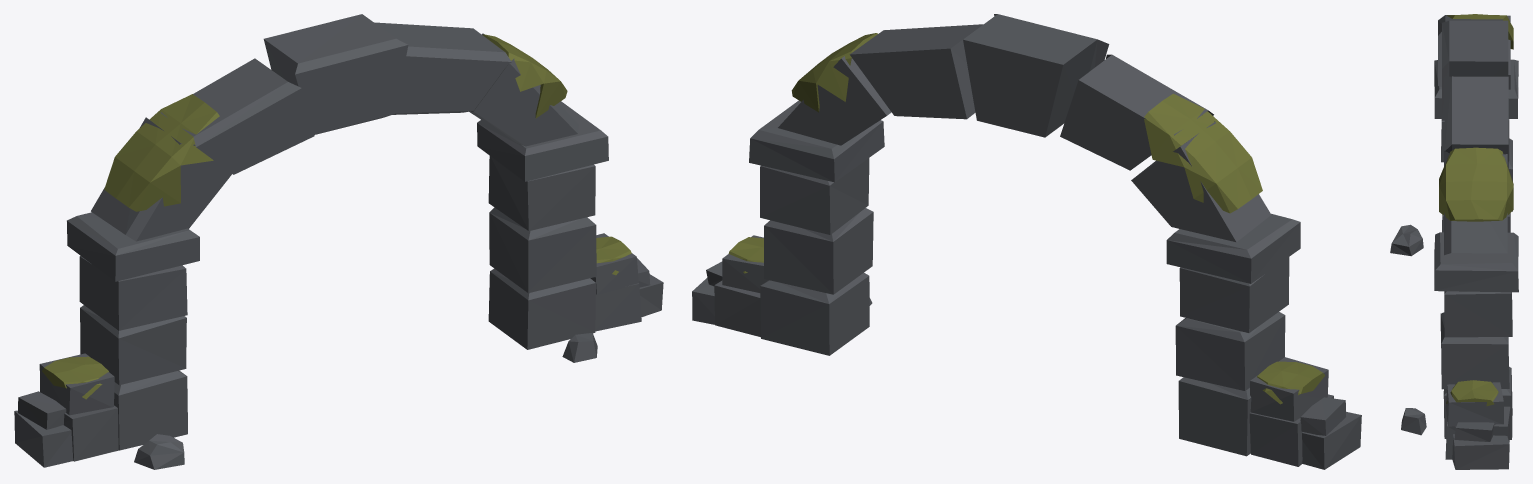
The model's file is FK_RuinDoorway.fbx.
The picture shows the model from 3 angles, left to right: view 1: azimuth 30°, elevation 25°; view 2: azimuth 150°, elevation 25°; view 3: azimuth 270°, elevation 25°; orthographic projection. The views are drawn at different scales.
Parts seen in each view (by area): view 1: FK_RuinDoorway_Stone, FK_RuinDoorway_Moss; view 2: FK_RuinDoorway_Stone, FK_RuinDoorway_Moss; view 3: FK_RuinDoorway_Stone, FK_RuinDoorway_Moss.
Boxes of the visible parts, x1,y1,x2,y2 form: FK_RuinDoorway_Stone: [14, 14, 663, 469]; FK_RuinDoorway_Moss: [42, 34, 631, 399]; FK_RuinDoorway_Stone: [692, 14, 1361, 469]; FK_RuinDoorway_Moss: [728, 33, 1324, 404]; FK_RuinDoorway_Stone: [1390, 15, 1518, 469]; FK_RuinDoorway_Moss: [1439, 14, 1513, 406].
Bounding box in the file's own units: 35.97 × 18.72 × 7.39.
